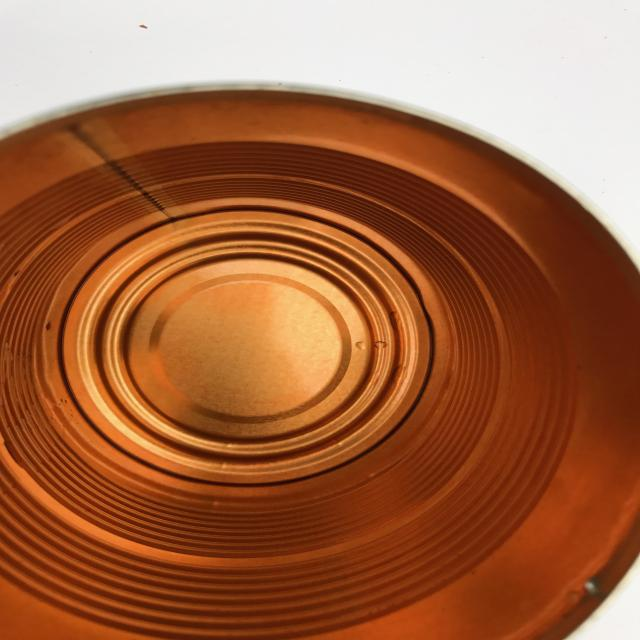Metal: (0, 78, 640, 640)
